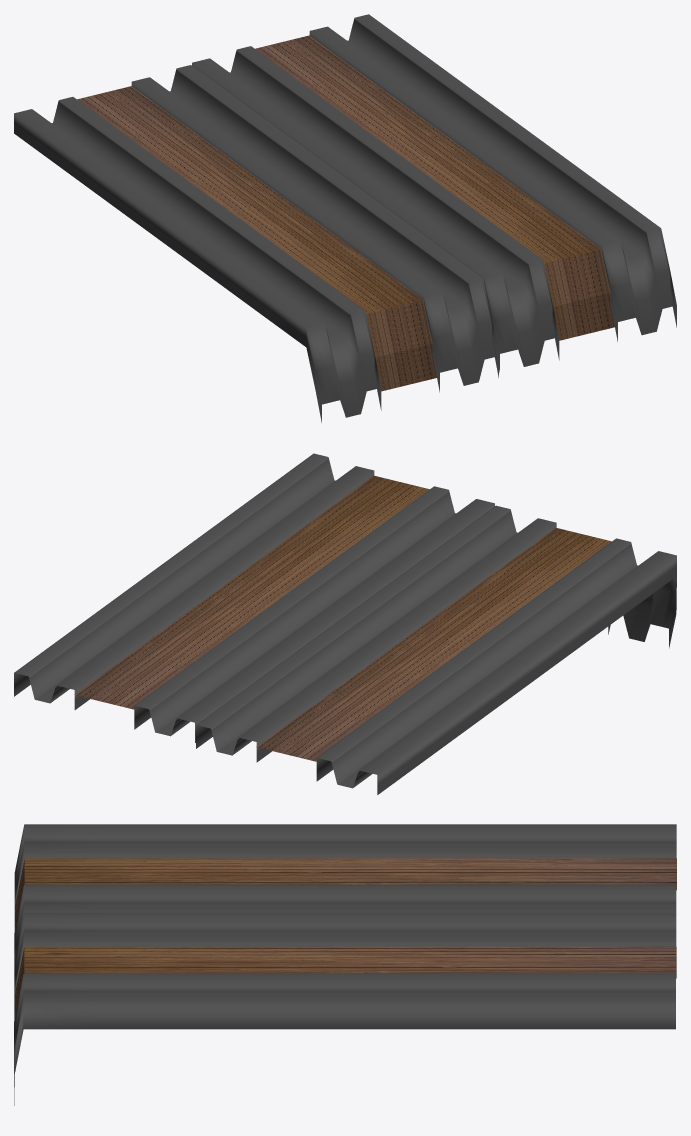
The model's file is scene_de_bowling.glb.
3 renders of one model, top to bottom at view 1: azimuth 30°, elevation 25°; view 2: azimuth 150°, elevation 25°; view 3: azimuth 270°, elevation 25°, orthographic. The views are drawn at different scales.
Parts seen in each view (by area): view 1: Plane.001, Plane.004, Plane.002, Plane.003, Plane.006, Plane.005; view 2: Plane.001, Plane.002, Plane.004, Plane.003, Plane.005, Plane.006; view 3: Plane.004, Plane.001, Plane.003, Plane.002, Plane.005, Plane.006.
Part boxes in pixels (<box>): Plane.001: <box>14,97,381,422</box>; Plane.004: <box>309,14,676,341</box>; Plane.002: <box>131,65,498,392</box>; Plane.003: <box>192,46,559,372</box>; Plane.006: <box>77,86,436,391</box>; Plane.005: <box>255,35,614,340</box>; Plane.001: <box>316,538,676,794</box>; Plane.002: <box>196,505,556,762</box>; Plane.004: <box>14,453,374,709</box>; Plane.003: <box>134,486,494,742</box>; Plane.005: <box>74,475,429,709</box>; Plane.006: <box>256,528,611,761</box>; Plane.004: <box>14,973,675,1105</box>; Plane.001: <box>14,824,676,930</box>; Plane.003: <box>14,913,676,1019</box>; Plane.002: <box>14,884,676,960</box>; Plane.005: <box>14,946,676,1070</box>; Plane.006: <box>15,858,676,928</box>.
Bounding box in the file's own units: 72.34 × 20.99 × 102.
Materials: 6 (6 with a texture image).
